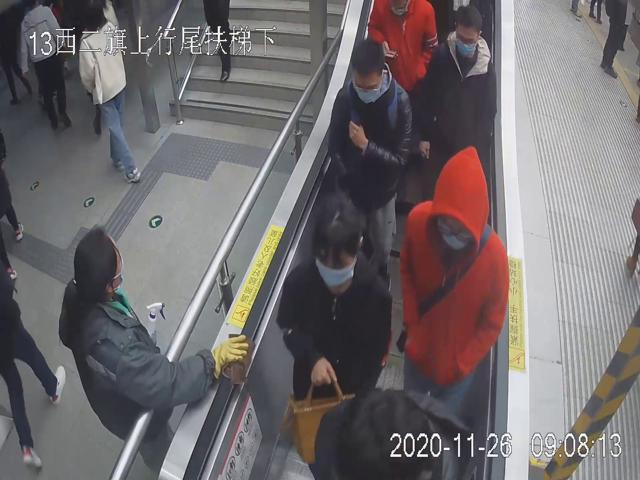person: (57, 226, 254, 446), (274, 185, 394, 456), (398, 144, 510, 414), (328, 38, 413, 283), (418, 0, 497, 200)
